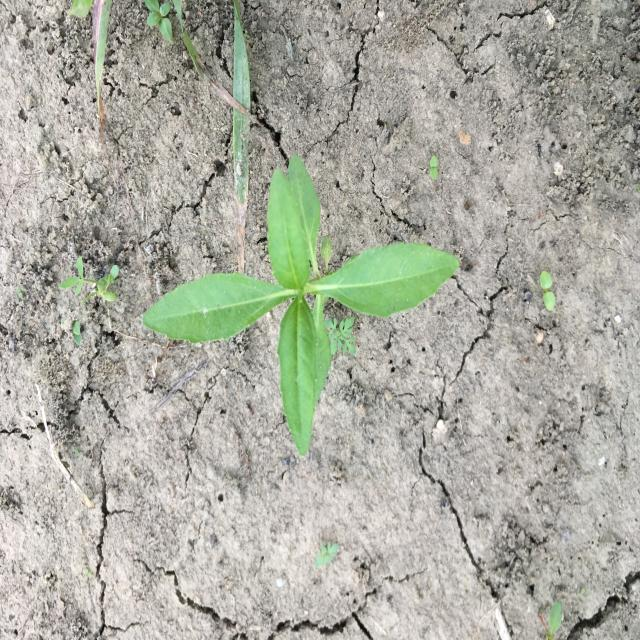Eclipta: (141, 152, 462, 459)
